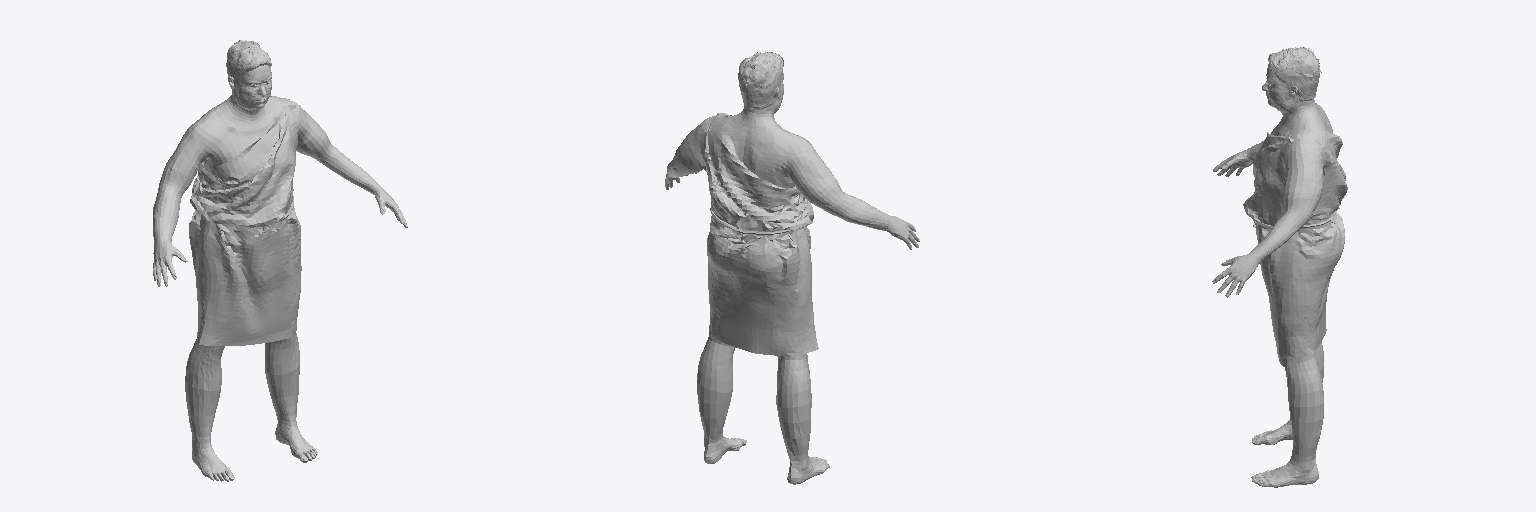
File: SenatorLargeBlue.obj
The picture shows the model from 3 angles: view 1: azimuth 30°, elevation 25°; view 2: azimuth 150°, elevation 25°; view 3: azimuth 270°, elevation 25°; orthographic projection.
Parts seen in each view (by area): view 1: male_chiton.obj, base.obj, short01.obj; view 2: male_chiton.obj, base.obj, short01.obj; view 3: male_chiton.obj, base.obj, short01.obj.
Boxes of the visible parts, box(x1,y1,x2,y2) form: male_chiton.obj: box(189, 95, 301, 345); base.obj: box(153, 65, 407, 481); short01.obj: box(226, 40, 271, 90); male_chiton.obj: box(696, 113, 818, 356); base.obj: box(665, 73, 919, 484); short01.obj: box(738, 52, 783, 109); male_chiton.obj: box(1243, 129, 1347, 367); base.obj: box(1212, 63, 1332, 487); short01.obj: box(1268, 47, 1321, 101).
Bounding box in the file's own units: 11.34 × 18 × 5.34.